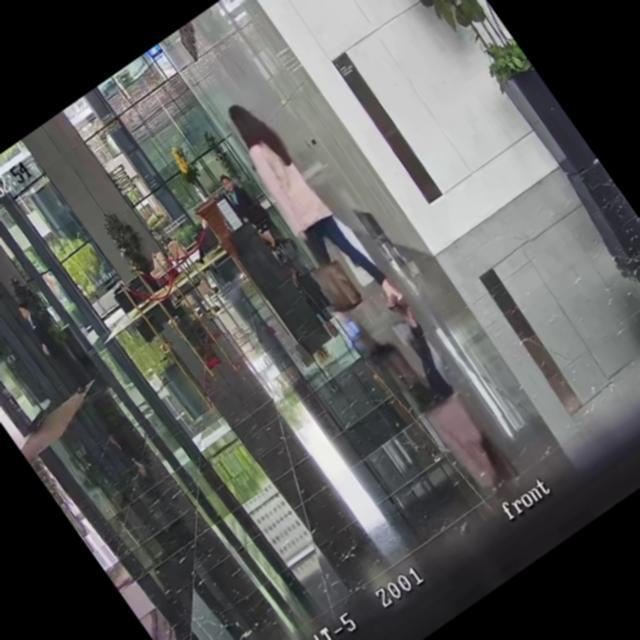person: (215, 86, 408, 331), (12, 298, 88, 398), (212, 164, 288, 256), (172, 210, 227, 268)
